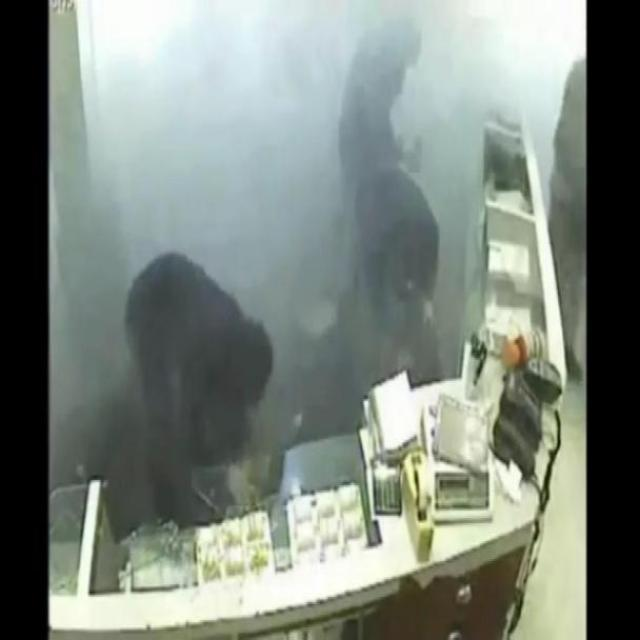Smoke: (67, 0, 574, 554)
